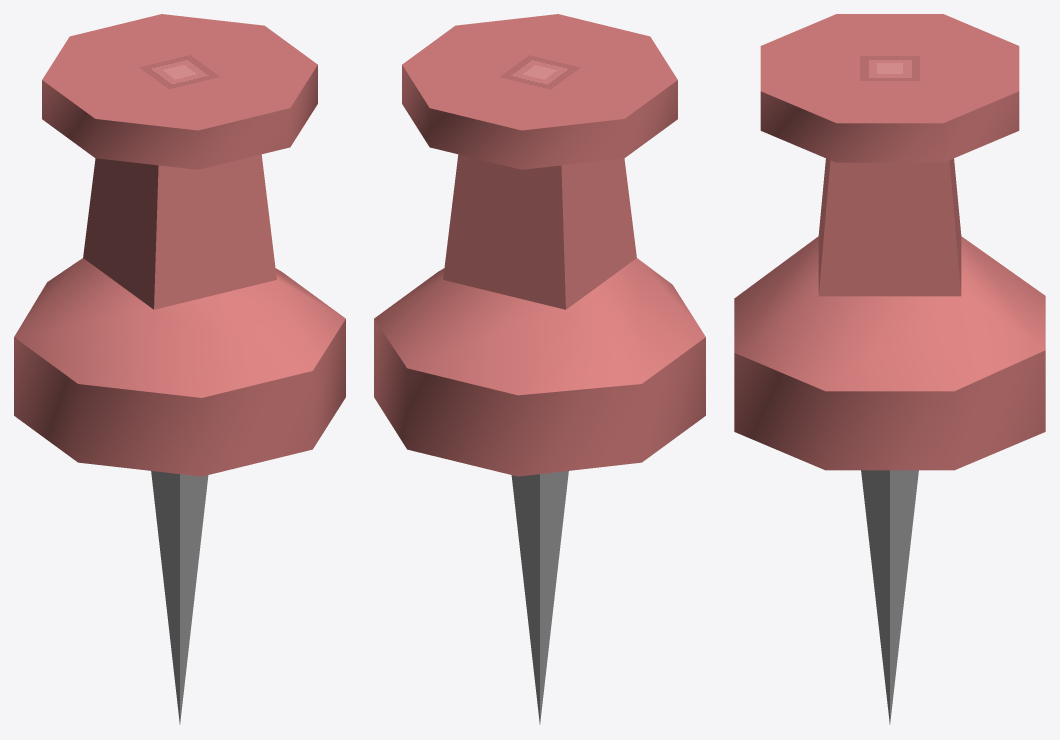
The model's file is 0328_Pushpin.glb.
3 views of the same model, side by side, from view 1: azimuth 30°, elevation 25°; view 2: azimuth 150°, elevation 25°; view 3: azimuth 270°, elevation 25° (orthographic).
Parts seen in each view (by area): view 1: part_0; view 2: part_0; view 3: part_0.
Boxes of the visible parts, x1,y1,x2,y2 form: part_0: [14, 14, 345, 724]; part_0: [374, 14, 705, 724]; part_0: [734, 14, 1045, 724].
Bounding box in the file's own units: 0.0114 × 0.0266 × 0.0114.
Materials: 1 (1 with a texture image).
